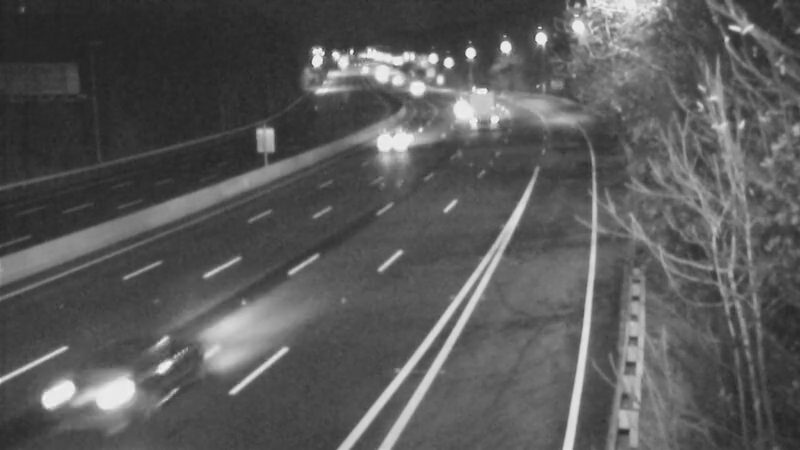vehicle: (63, 328, 173, 438), (370, 54, 420, 104), (385, 65, 435, 115), (461, 80, 511, 130), (434, 79, 484, 129), (378, 113, 428, 163)
